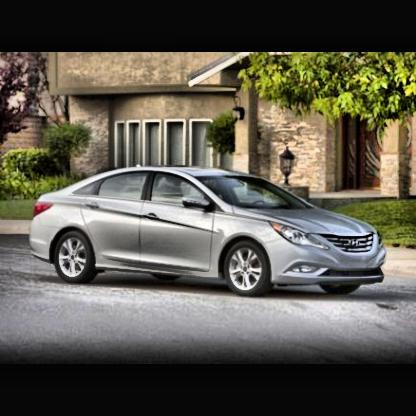Hyundai Sonata Sedan 2012: (28, 163, 391, 293)
